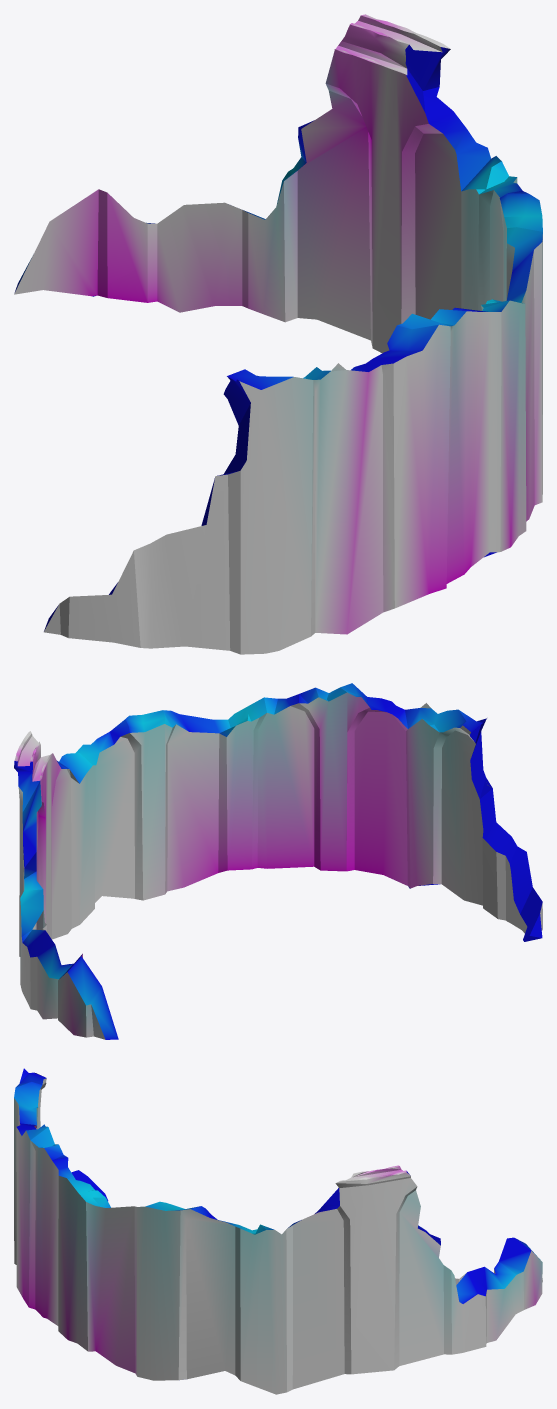
The model's file is wall01.fbx.
The picture shows the model from 3 angles, top to bottom: view 1: azimuth 30°, elevation 25°; view 2: azimuth 150°, elevation 25°; view 3: azimuth 270°, elevation 25°; orthographic projection. The views are drawn at different scales.
Visible parts, largest first — view 1: wallpreapply_003; view 2: wallpreapply_003; view 3: wallpreapply_003.
Part boxes in pixels (x1,y1,x2,y2): wallpreapply_003: (14, 14, 542, 654); wallpreapply_003: (14, 683, 542, 1039); wallpreapply_003: (14, 1068, 542, 1394).
Bounding box in the file's own units: 339 × 181 × 404.
